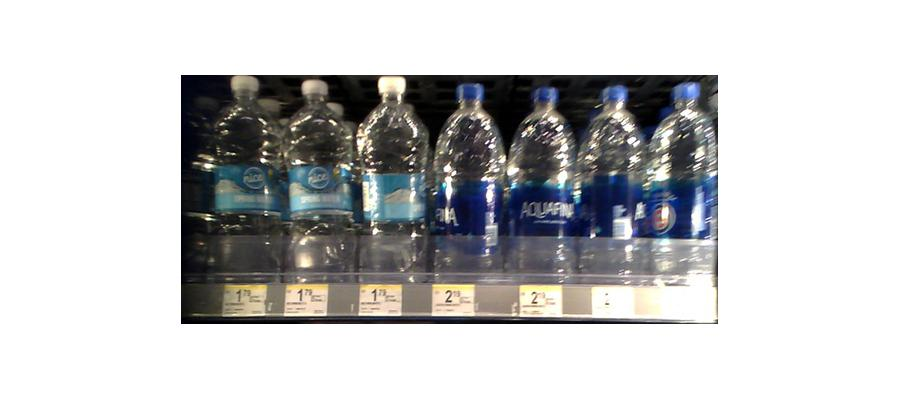bottle: (355, 74, 427, 282), (430, 80, 503, 281), (506, 78, 577, 282), (648, 76, 715, 288), (280, 78, 351, 277), (577, 77, 644, 283), (211, 76, 275, 279)
